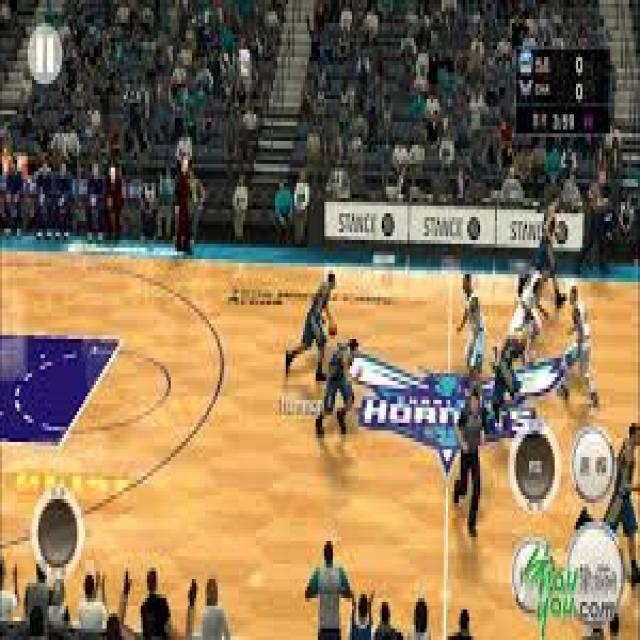rim: (326, 316, 337, 335)
